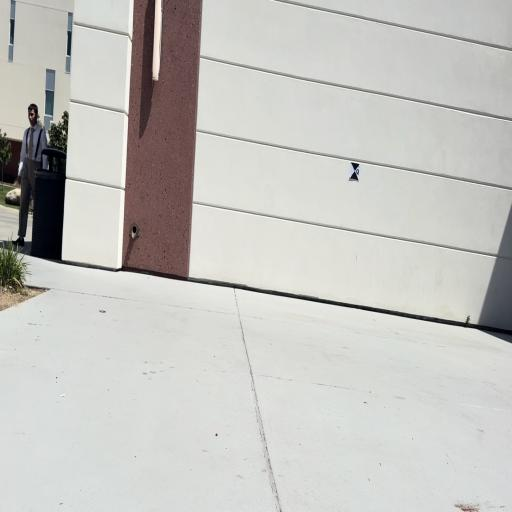target0: (349, 162, 360, 182)
